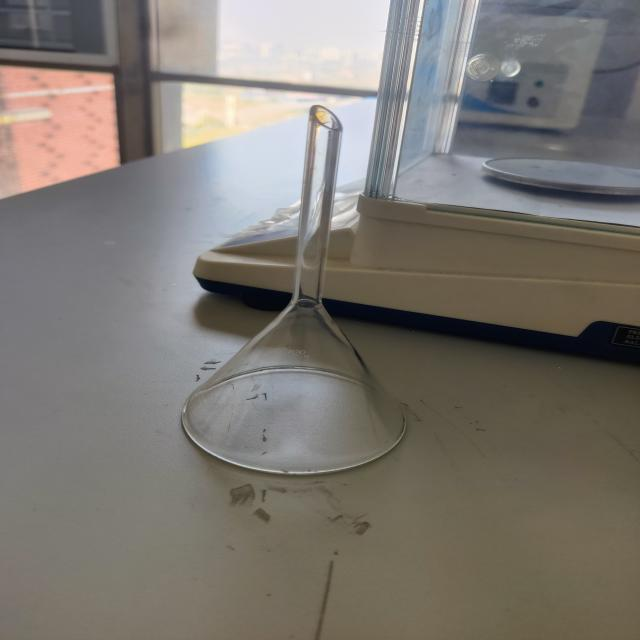Funnel: (156, 76, 463, 509)
